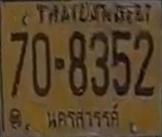0: (31, 33, 51, 96)
2: (134, 30, 154, 97)
3: (90, 33, 109, 95)
5: (111, 30, 130, 95)
7: (10, 31, 28, 96)
8: (69, 31, 88, 96)
NSN: (43, 102, 127, 132)
